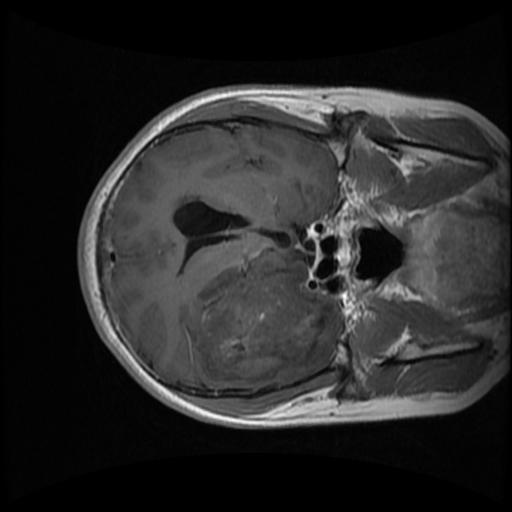glioma: (177, 245, 342, 390)
